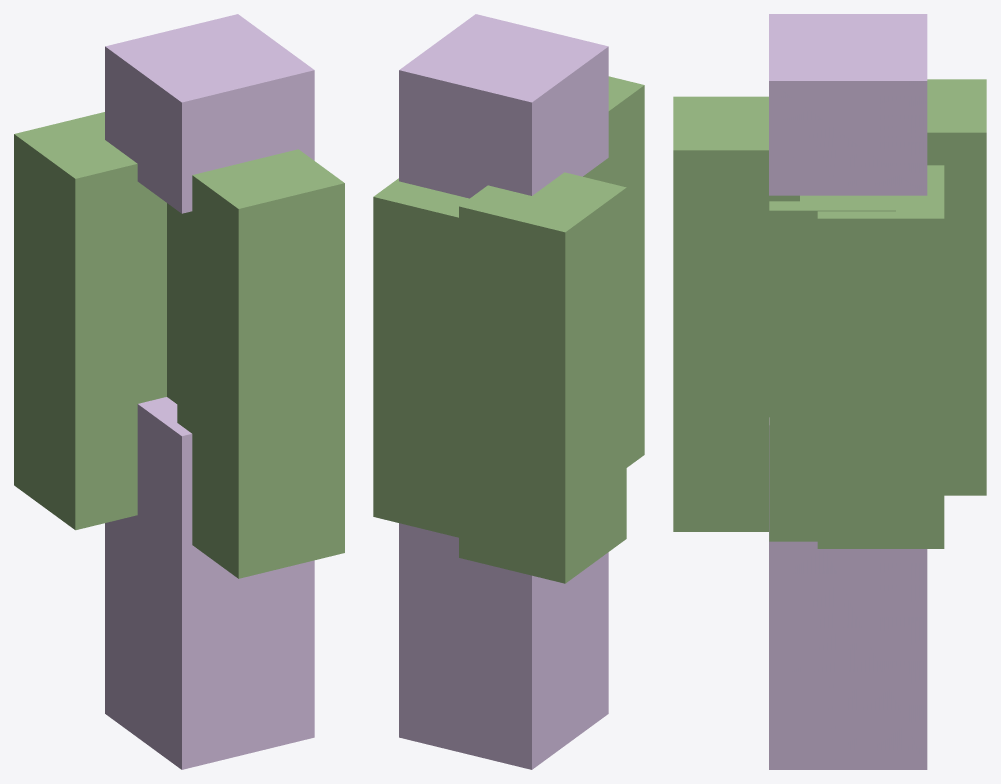
Rendered from Item_Herb_AMF_Dozeleaf_Bundle3.glb.
3 renders of one model, left to right at view 1: azimuth 30°, elevation 25°; view 2: azimuth 150°, elevation 25°; view 3: azimuth 270°, elevation 25°, orthographic. The views are drawn at different scales.
Parts seen in each view (by area): view 1: Item_Herb_AMF_Dozeleaf_Bundle3; view 2: Item_Herb_AMF_Dozeleaf_Bundle3; view 3: Item_Herb_AMF_Dozeleaf_Bundle3.
Boxes of the visible parts, <box> form: Item_Herb_AMF_Dozeleaf_Bundle3: <box>14,14,344,769</box>; Item_Herb_AMF_Dozeleaf_Bundle3: <box>373,14,644,769</box>; Item_Herb_AMF_Dozeleaf_Bundle3: <box>673,14,986,769</box>.
Bounding box in the file's own units: 0.08 × 0.24 × 0.099.
